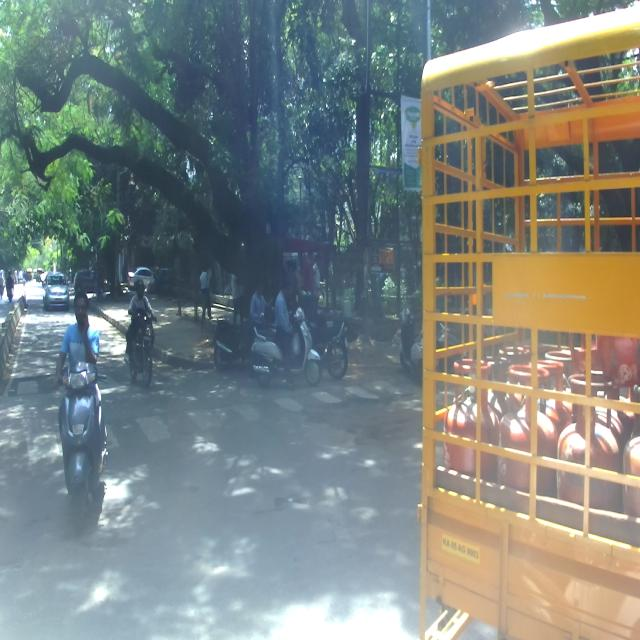motorcycle ahead at: (51, 356, 110, 524), (246, 308, 324, 396)
truck ahead at: (418, 0, 640, 640)
